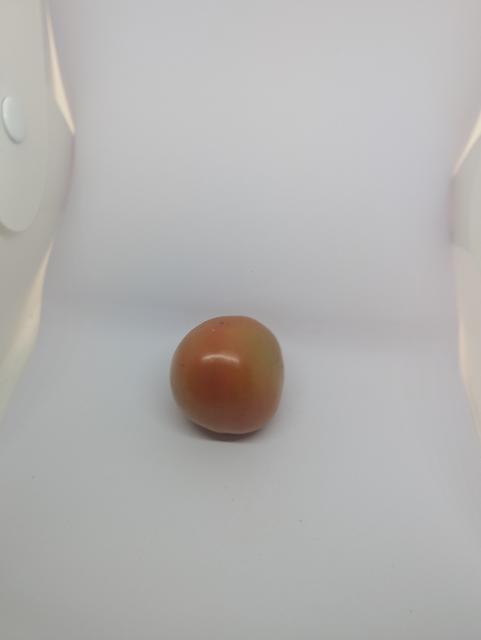turning: (167, 310, 289, 438)
